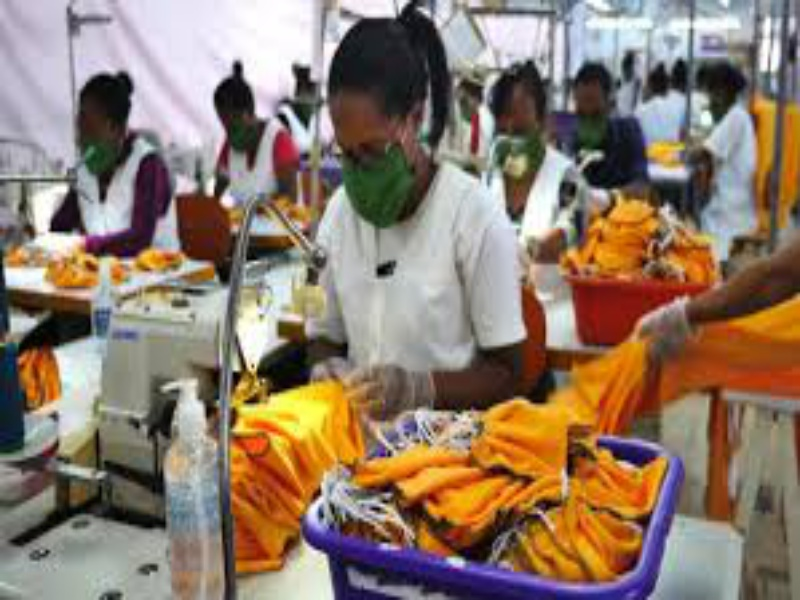ManaoArotava: (326, 42, 433, 245), (486, 58, 561, 198)
